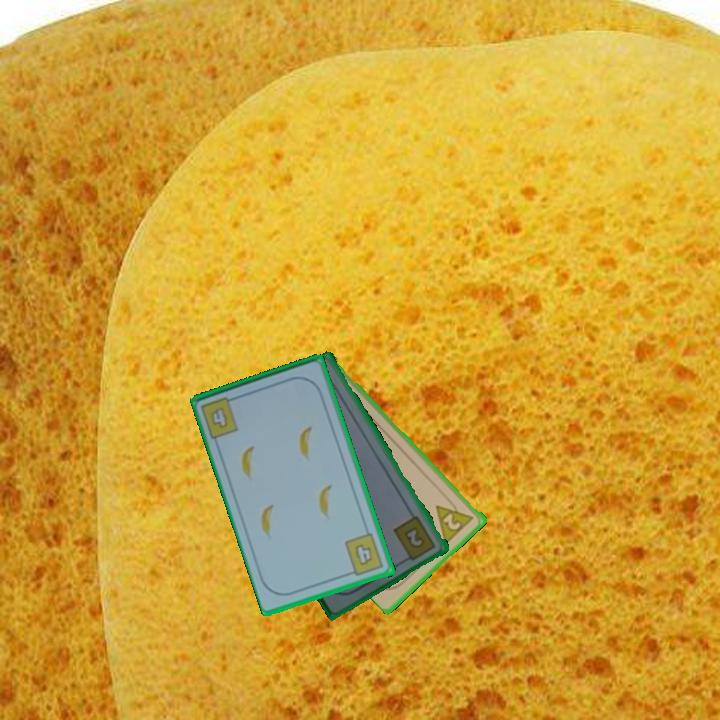2b: (390, 512, 439, 564)
2p: (432, 494, 478, 546)
4b: (342, 530, 387, 579), (197, 392, 241, 441)
